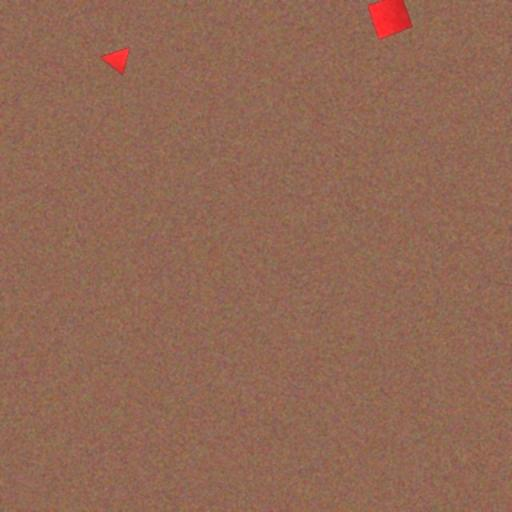RED_SQUARE: (367, 0, 414, 41)
